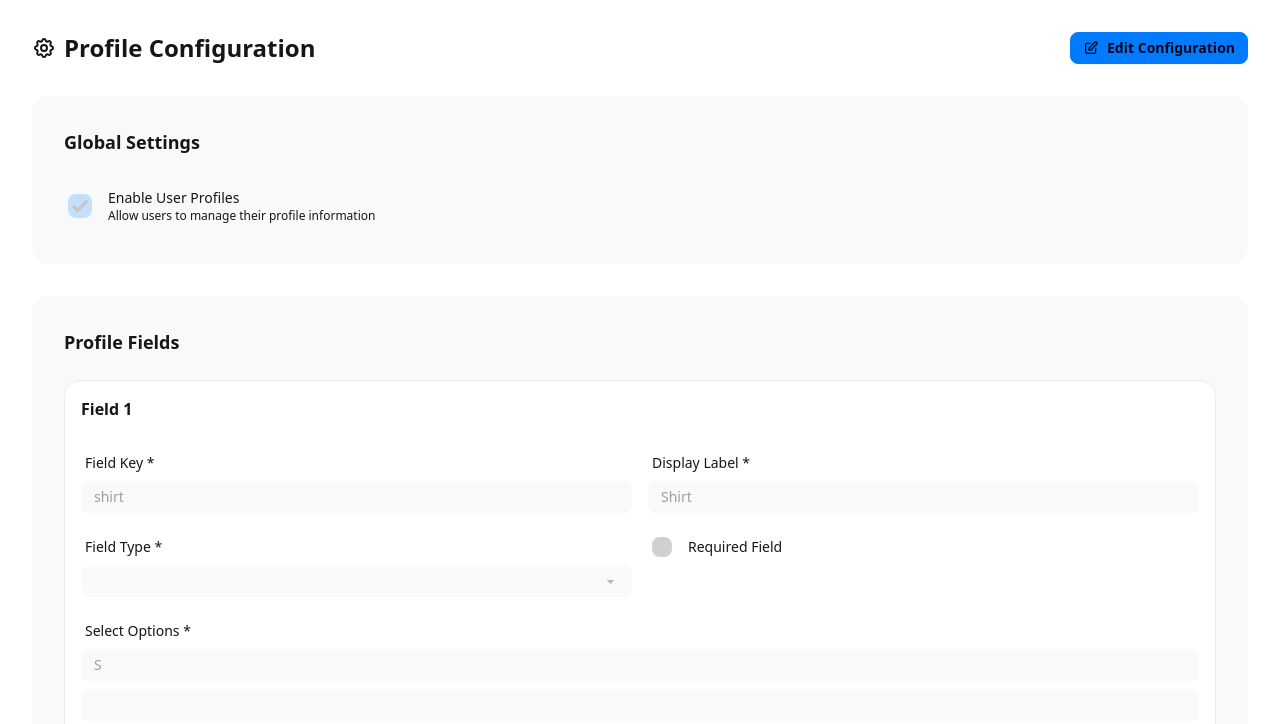
Test: validation › refuses a select field with a blank option
The width and height of the screenshot is (1280, 724).
Click the button "Edit Configuration" at coordinates (1159, 48), box [1070,32,1248,64]
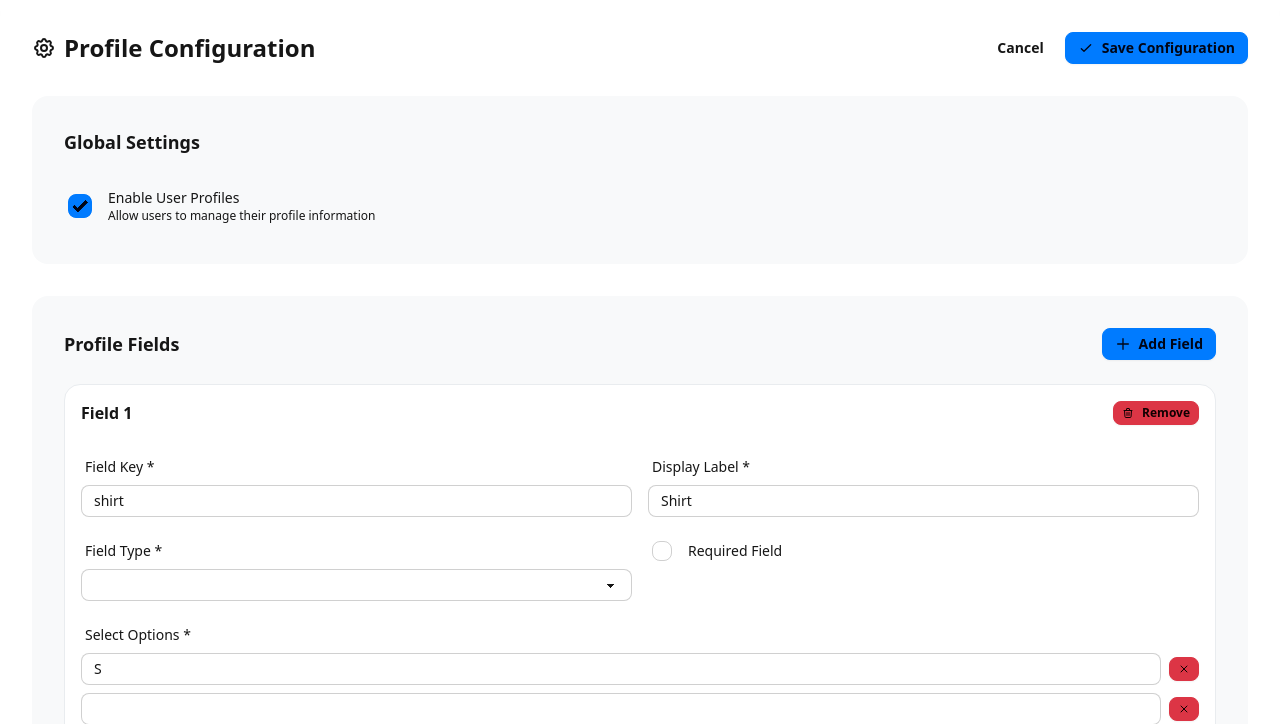
Click the button "Save Configuration" at coordinates (1156, 48), box [1065,32,1248,64]
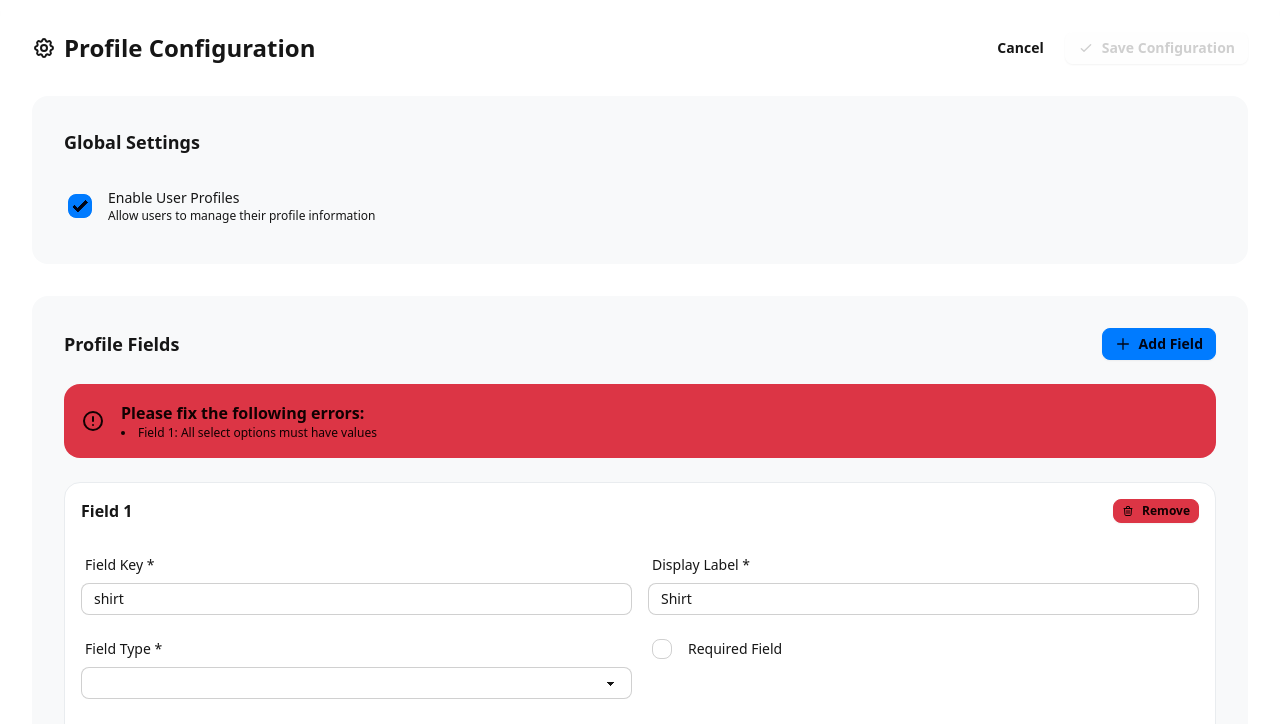
Expected: the element with class "alert-error" shows "All select options must have values", [138,424,377,441]
